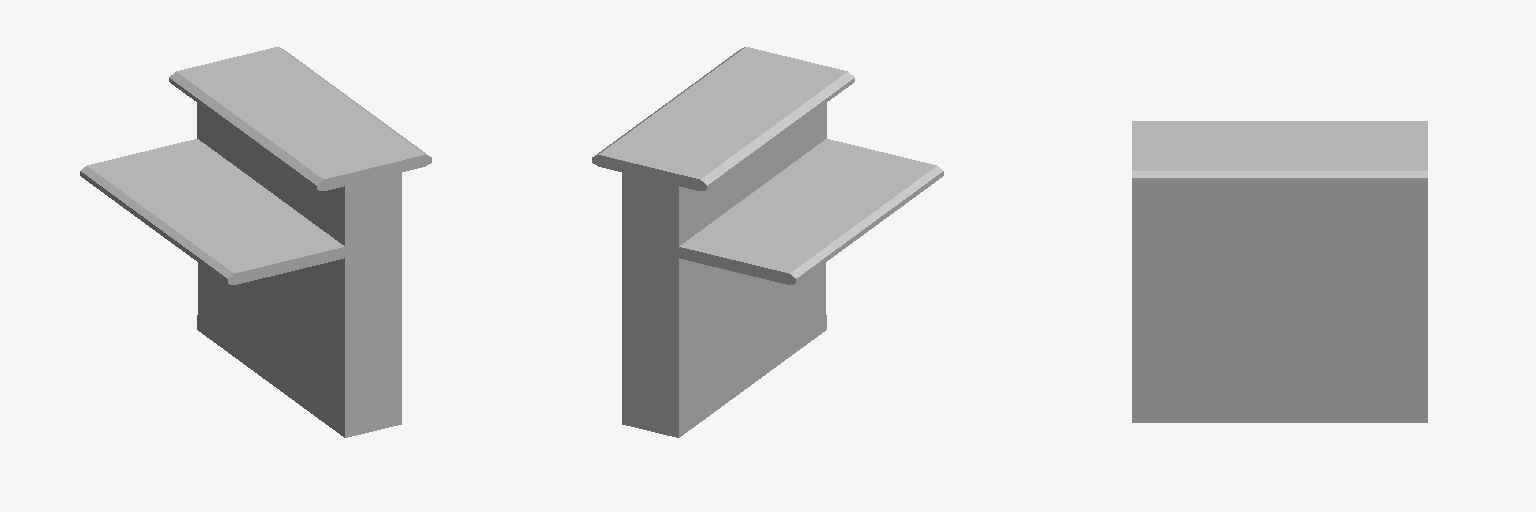
Rendered from Hosp_desk.obj.
3 renders of one model, left to right at view 1: azimuth 30°, elevation 25°; view 2: azimuth 150°, elevation 25°; view 3: azimuth 270°, elevation 25°, orthographic.
Visible parts, largest first — view 1: pCube1; view 2: pCube1; view 3: pCube1.
Part boxes in pixels (x1,y1,x2,y2): pCube1: (80,47,431,437); pCube1: (592,47,943,437); pCube1: (1132,121,1427,422).
Size of the model in its own units: 0.8137 by 1.01 by 1.02.